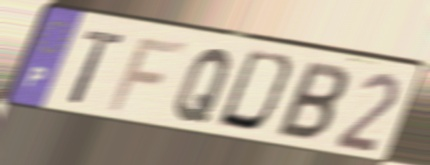2: (332, 69, 404, 155)
B: (272, 58, 353, 145)
D: (212, 47, 301, 139)
F: (104, 35, 191, 114)
Q: (170, 46, 235, 126)
T: (65, 27, 128, 108)
